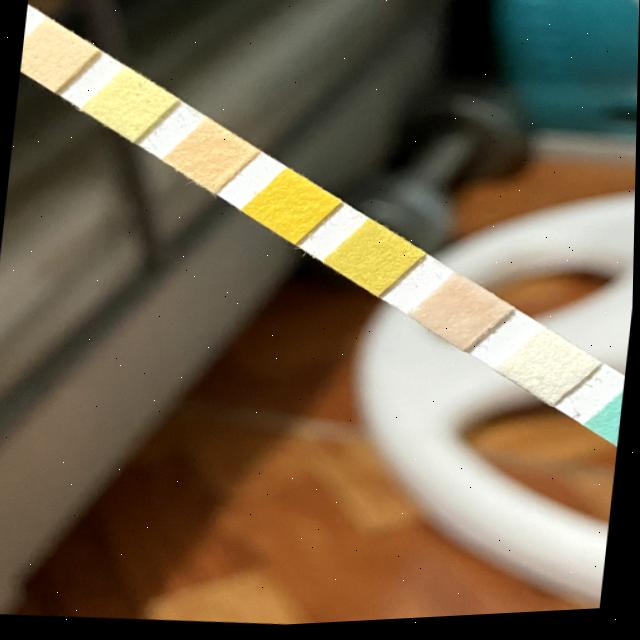Bilirubin: (518, 350, 578, 395)
Blood: (260, 186, 318, 230)
Glucose: (608, 407, 623, 446)
Ketone: (431, 292, 491, 338)
Protein: (97, 83, 161, 126)
SpGravity: (345, 240, 405, 283)
Urobilinogen: (19, 35, 84, 75)
pH: (183, 135, 240, 179)
